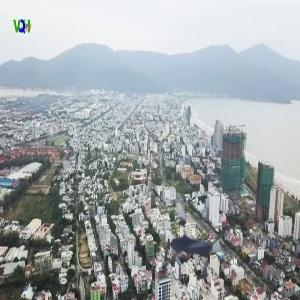drone: (137, 180, 250, 293)
